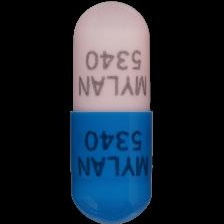43063-619: (0, 0, 224, 224)
